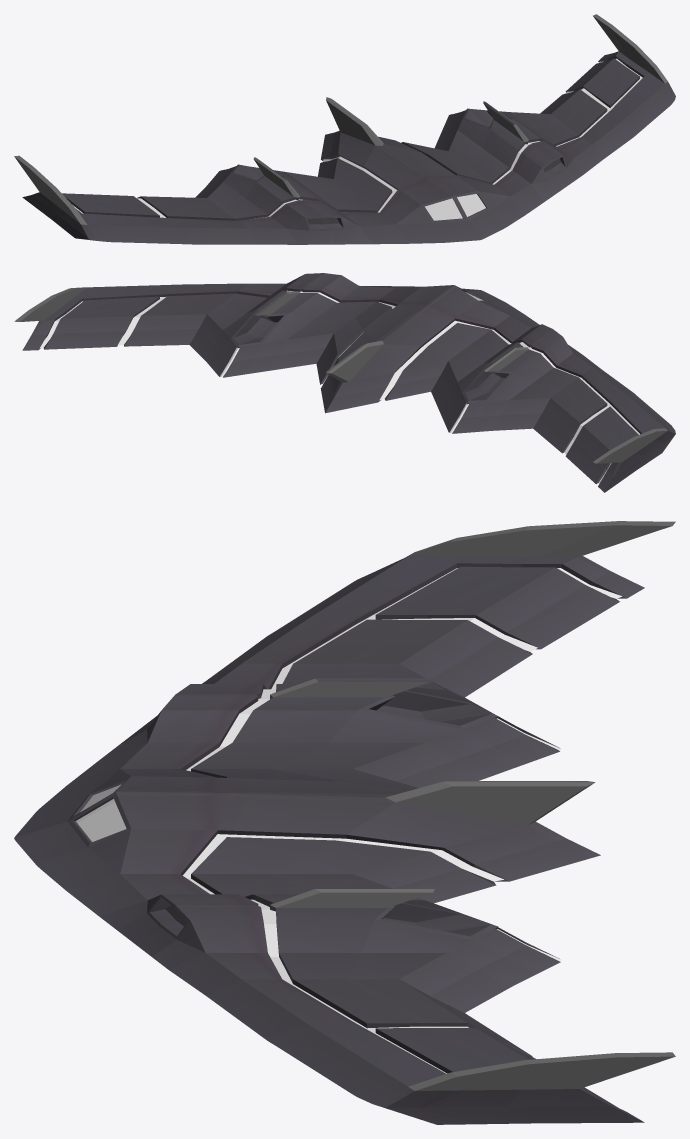
File: BlackSpear.fbx
The picture shows the model from 3 angles, top to bottom: view 1: azimuth 30°, elevation 25°; view 2: azimuth 150°, elevation 25°; view 3: azimuth 270°, elevation 25°; orthographic projection. The views are drawn at different scales.
Parts seen in each view (by area): view 1: BlackSpear; view 2: BlackSpear; view 3: BlackSpear.
Part boxes in pixels (left/top/right/bottom): BlackSpear: left=14, top=14, right=675, bottom=244; BlackSpear: left=14, top=273, right=675, bottom=492; BlackSpear: left=14, top=521, right=675, bottom=1124.
Size of the model in its own units: 12.77 by 0.8132 by 6.63.
